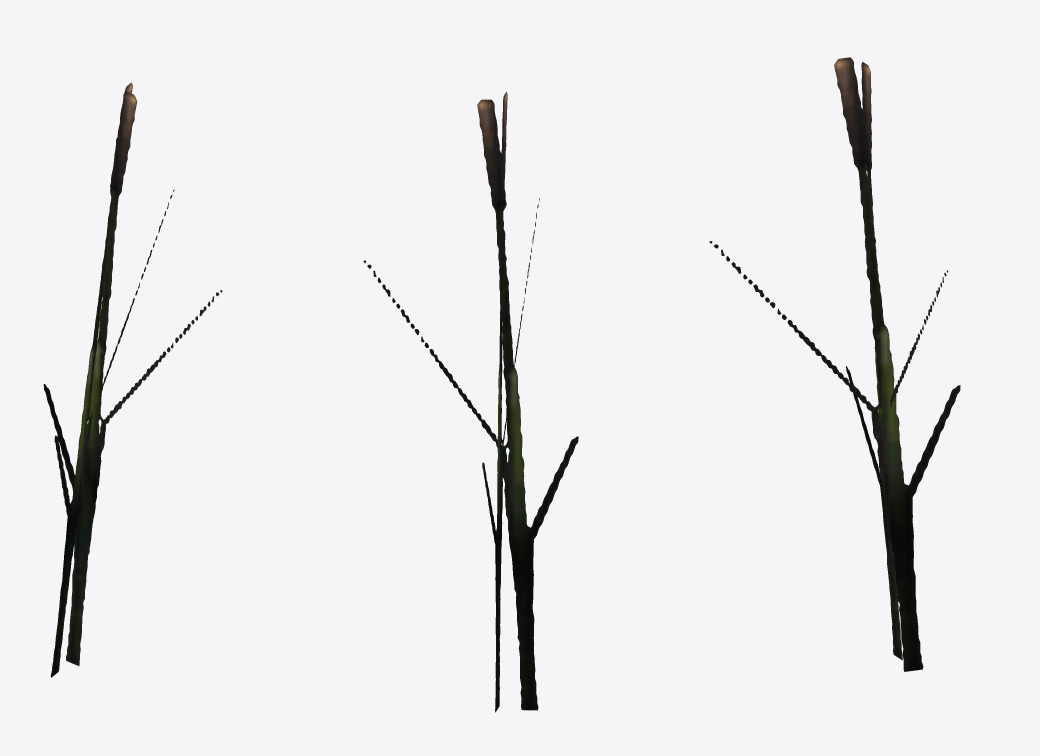
File: swmp_shor_cattail_blue_lg_l2.fbx
3 renders of one model, left to right at view 1: azimuth 30°, elevation 25°; view 2: azimuth 150°, elevation 25°; view 3: azimuth 270°, elevation 25°, orthographic. The views are drawn at different scales.
Visible parts, largest first — view 1: mesh_node; view 2: mesh_node; view 3: mesh_node.
Boxes of the visible parts, box(x1,y1,x2,y2) form: mesh_node: box(43, 82, 222, 677); mesh_node: box(363, 92, 578, 712); mesh_node: box(709, 57, 960, 671).
Bounding box in the file's own units: 1.2 × 2.82 × 1.53.
